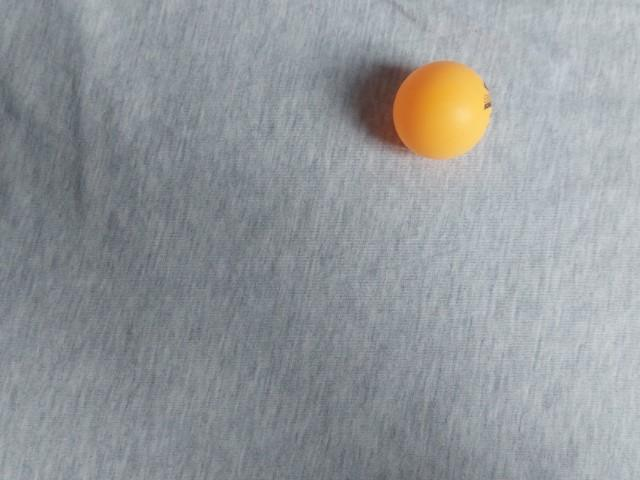oball: (138, 313, 254, 425)
